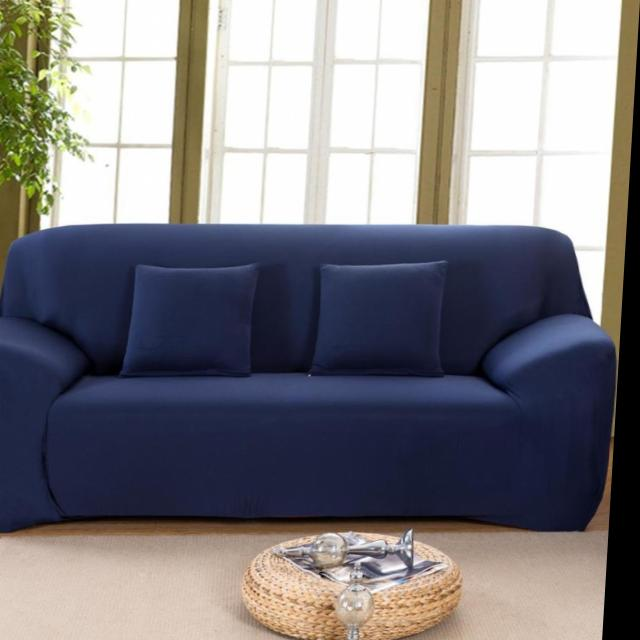Sofa: (0, 224, 629, 533)
